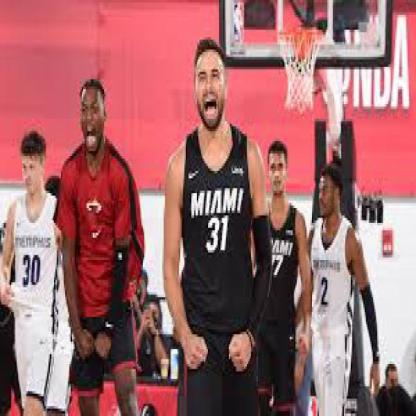rim: (276, 24, 326, 54)
